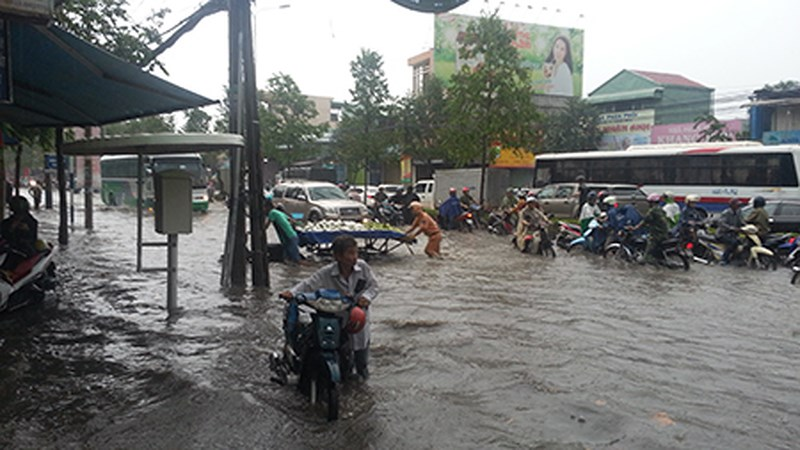police: (404, 201, 450, 266)
